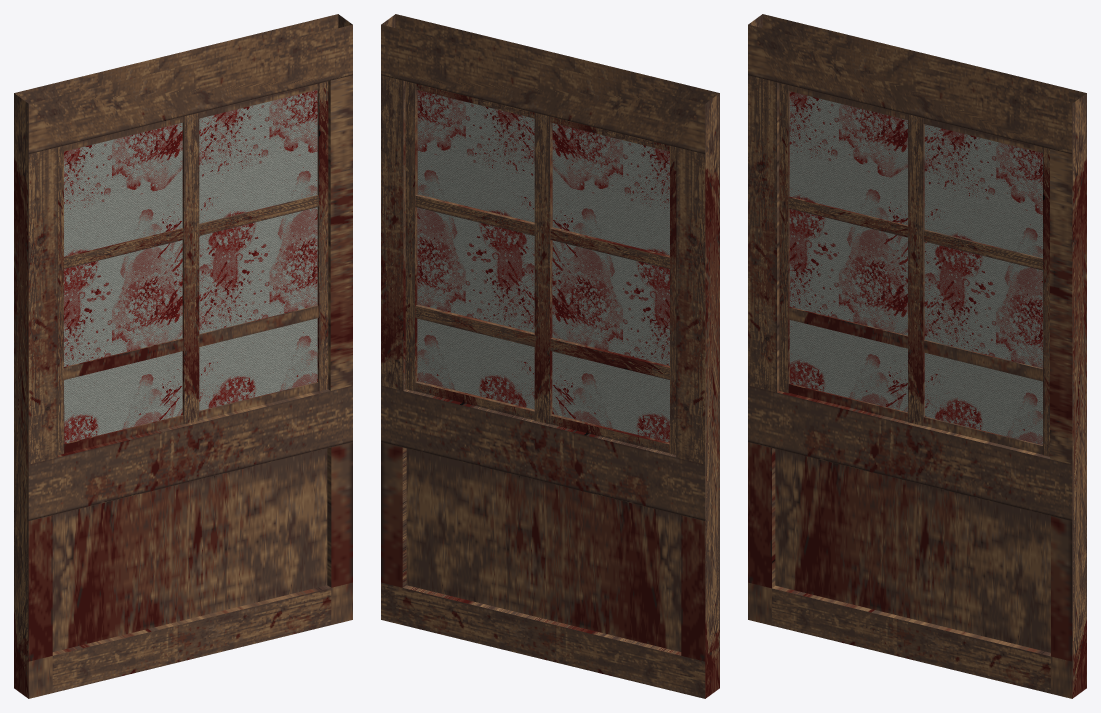
Rendered from door.fbx.
The picture shows the model from 3 angles, left to right: view 1: azimuth 30°, elevation 25°; view 2: azimuth 150°, elevation 25°; view 3: azimuth 330°, elevation 25°; orthographic projection.
Parts seen in each view (by area): view 1: door:Mesh; view 2: door:Mesh; view 3: door:Mesh.
Part boxes in pixels (x1,y1,x2,y2): door:Mesh: [14, 14, 352, 698]; door:Mesh: [381, 14, 719, 698]; door:Mesh: [748, 14, 1086, 698].
Bounding box in the file's own units: 0.8477 × 1.49 × 0.066.
2 materials, 2 textured.
